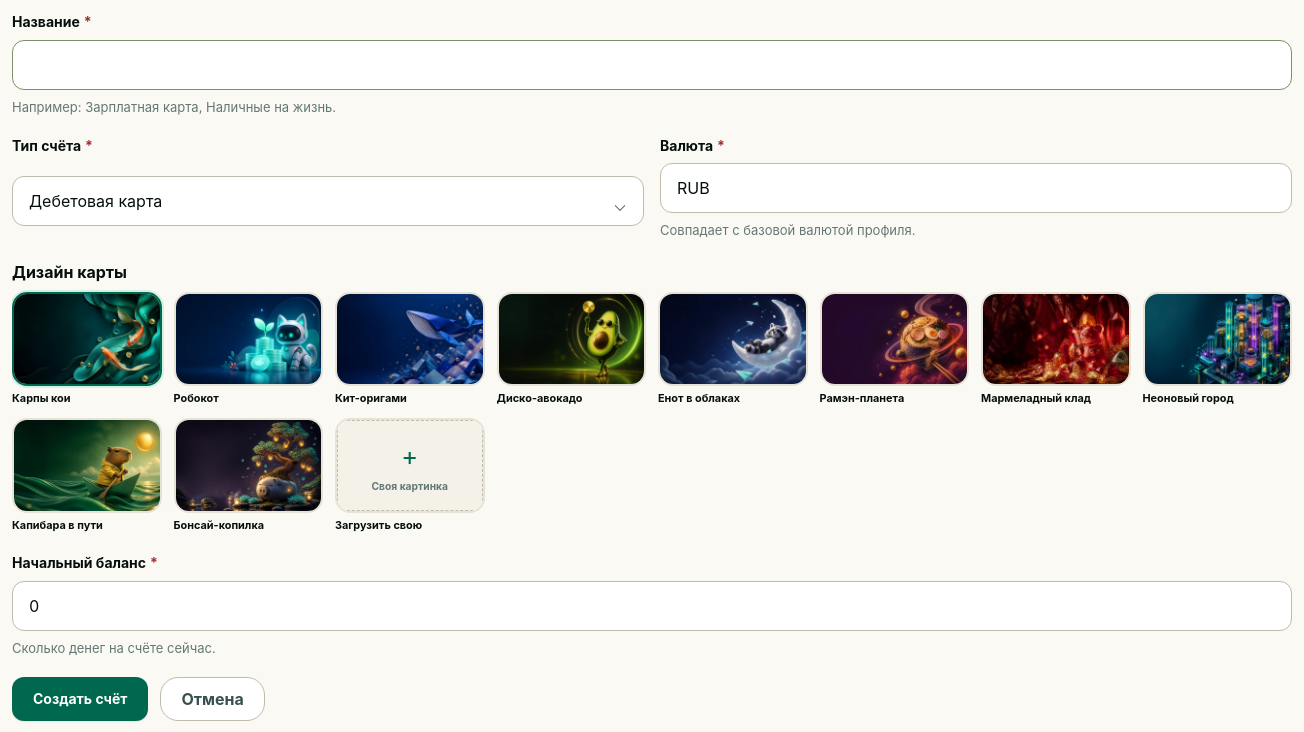
AccountForm › shows a server failure and keeps the form
In the field labelled "Название*": (652, 65) [12,40,1292,90], type "Зарплатная"
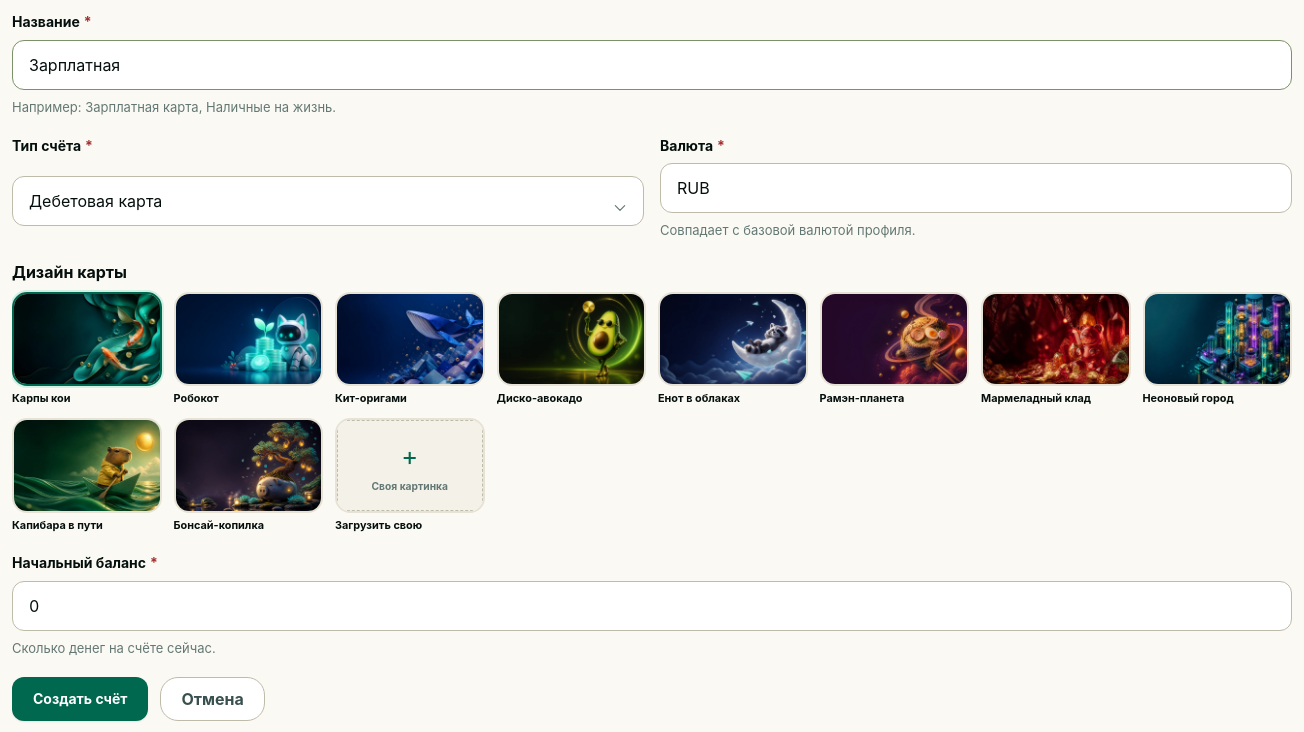
Click the button "Создать счёт": (80, 699) [12,677,148,721]
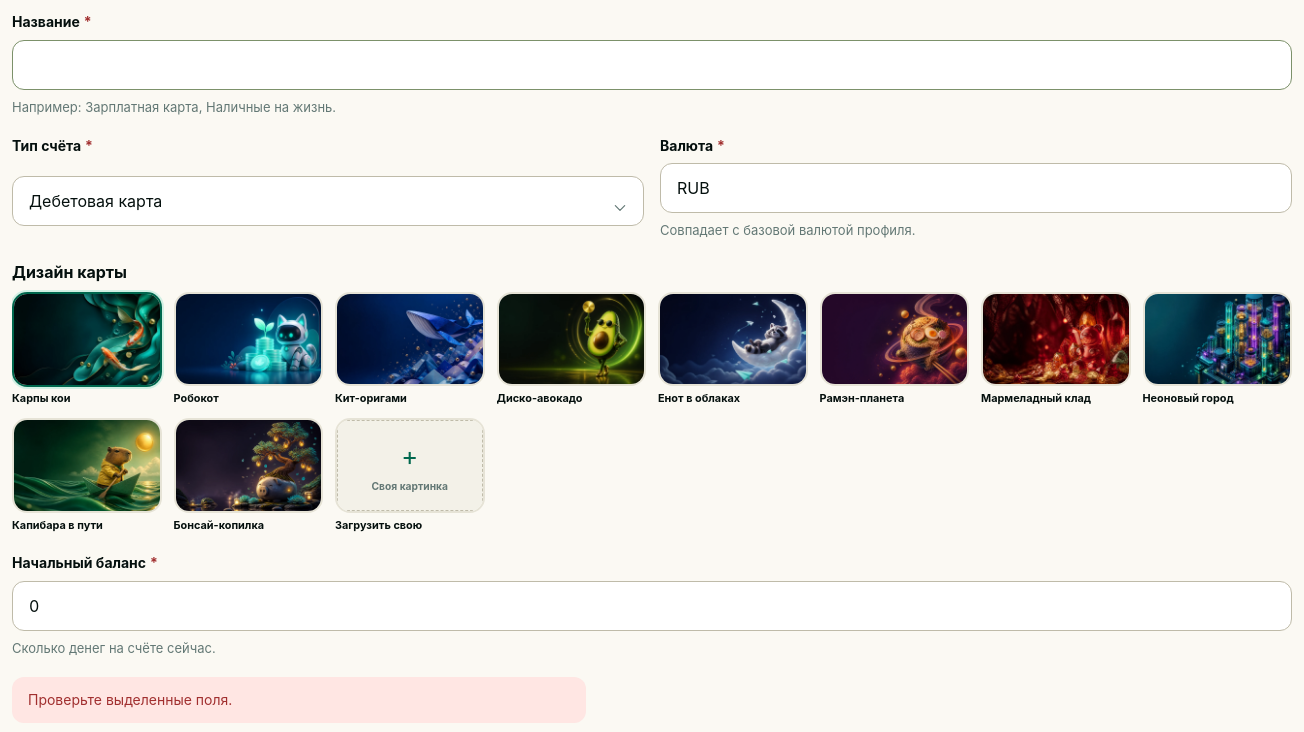
Expected: the text "Проверьте выделенные поля." is shown, [12,677,586,723]
